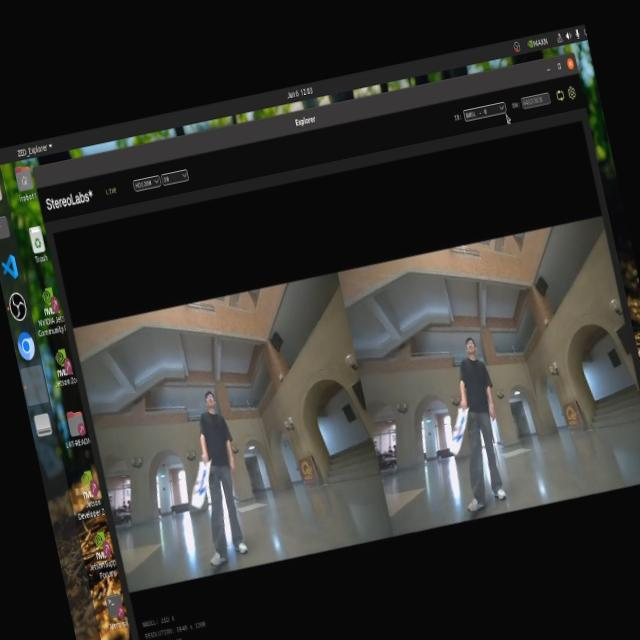blue: (192, 454, 214, 506)
